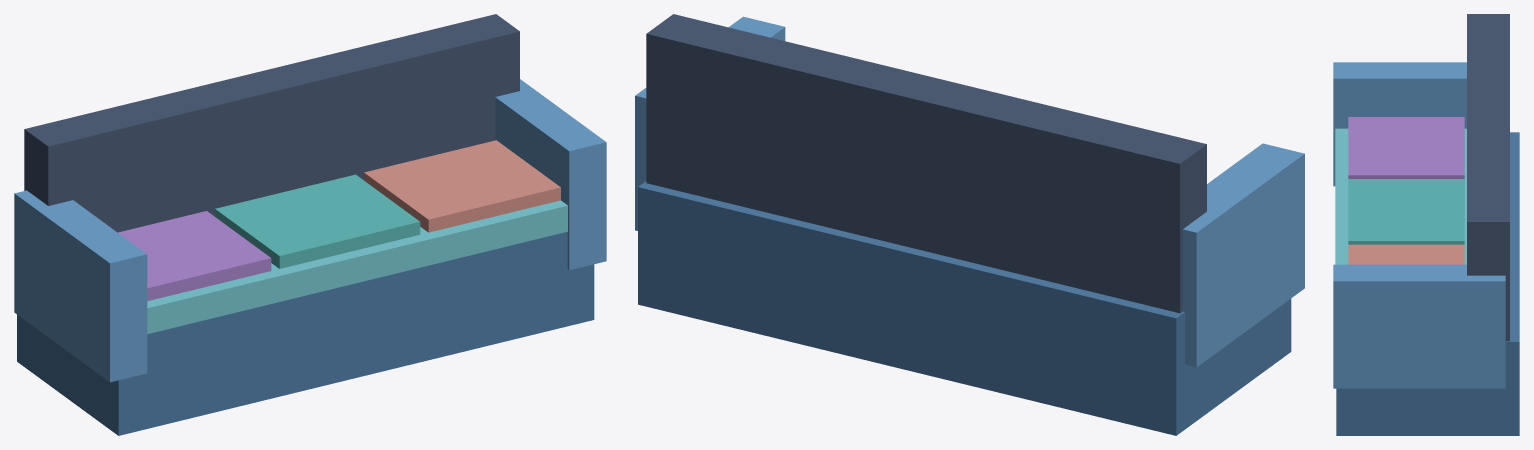
File: social_sofa_v3.glb
3 renders of one model, left to right at view 1: azimuth 30°, elevation 25°; view 2: azimuth 150°, elevation 25°; view 3: azimuth 270°, elevation 25°, orthographic. The views are drawn at different scales.
Visible parts, largest first — view 1: sofa_back, sofa_base, L_arm, sofa_seat, cushion_1, cushion_2, R_arm, cushion_0; view 2: sofa_back, sofa_base, L_arm, R_arm; view 3: R_arm, sofa_base, sofa_back, L_arm, cushion_1, cushion_0, cushion_2, sofa_seat.
Part boxes in pixels (<box>): sofa_back: <box>24,14,519,232</box>; sofa_base: <box>17,232,594,435</box>; L_arm: <box>14,190,147,382</box>; sofa_seat: <box>147,200,567,334</box>; cushion_1: <box>215,174,420,268</box>; cushion_2: <box>364,140,560,232</box>; R_arm: <box>495,79,606,270</box>; cushion_0: <box>118,211,271,301</box>; sofa_back: <box>646,14,1206,313</box>; sofa_base: <box>638,181,1291,435</box>; L_arm: <box>1182,143,1304,367</box>; R_arm: <box>635,16,785,230</box>; R_arm: <box>1333,264,1505,388</box>; sofa_base: <box>1336,132,1519,435</box>; sofa_back: <box>1467,14,1509,341</box>; L_arm: <box>1333,62,1466,186</box>; cushion_1: <box>1348,179,1464,244</box>; cushion_0: <box>1348,117,1464,178</box>; cushion_2: <box>1348,244,1464,264</box>; sofa_seat: <box>1335,128,1466,264</box>.
Bounding box in the file's own units: 2.4 × 1.22 × 0.865.
